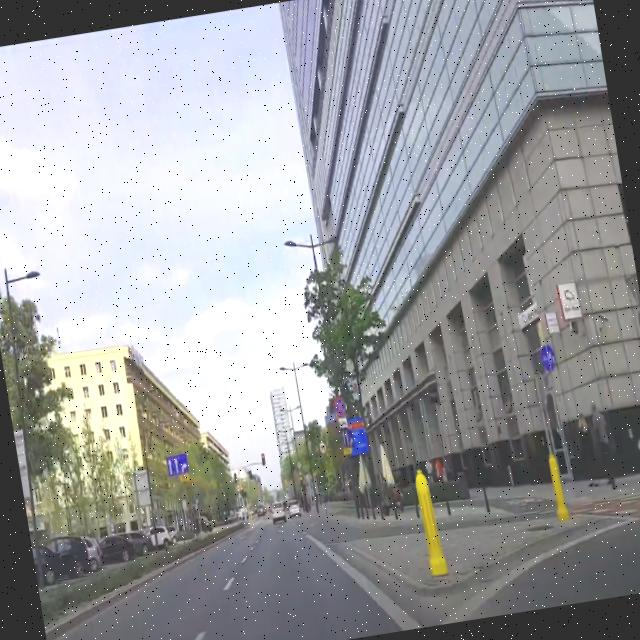Zakaz zatrzymywania sie: (332, 393, 348, 418)
